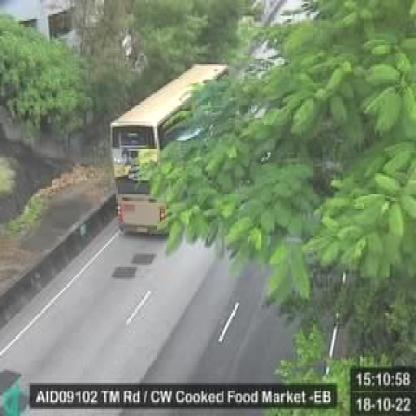Bus: (110, 64, 229, 237)
